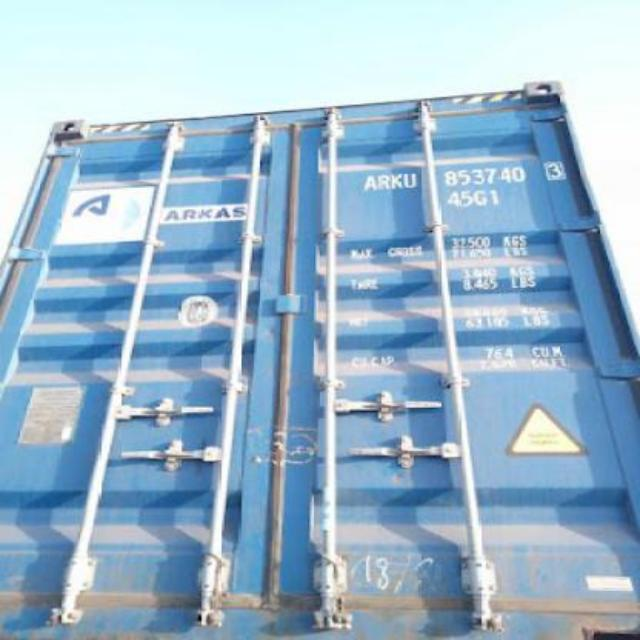0: (514, 168, 528, 182)
3: (471, 169, 484, 185), (548, 164, 560, 180)
4: (498, 166, 512, 184)
5: (460, 170, 470, 186)
7: (484, 167, 496, 185)
8: (446, 170, 458, 186)
A: (362, 175, 378, 191)
K: (391, 174, 404, 190)
R: (380, 175, 392, 191)
U: (402, 172, 418, 188)
